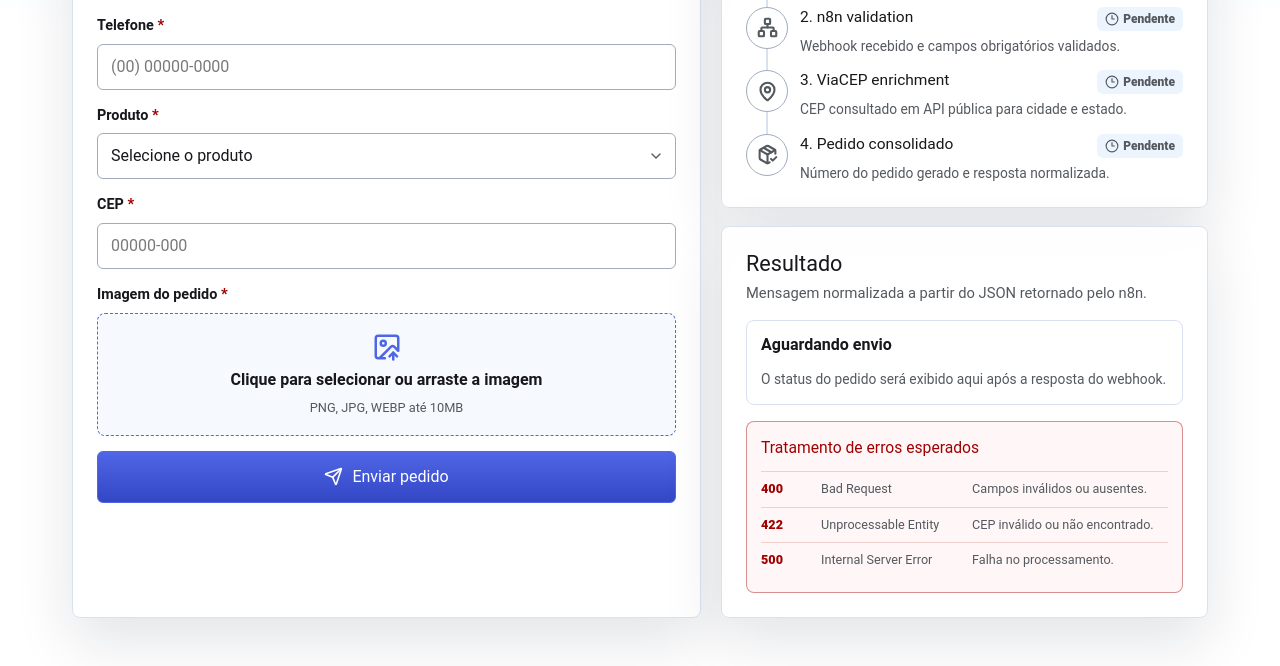
OrderCapturePage › mantém o envio habilitado para exibir validações ao tentar enviar vazio
(page scrolled)
Click the button "Enviar pedido" at coordinates (386, 477), box [97,451,676,503]
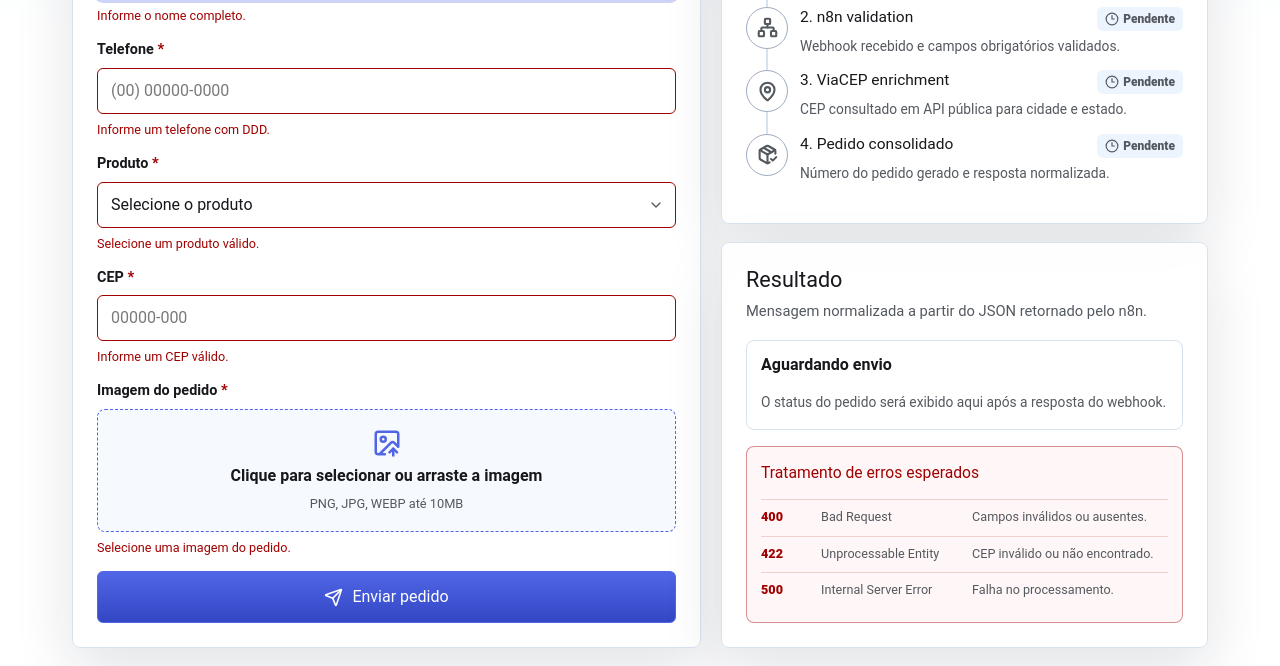
Check: the text "Informe o nome completo." is shown, box [97,8,246,23]
Check: the text "Informe um telefone com DDD." is shown, box [97,122,270,137]
Check: the text "Selecione um produto válido." is shown, box [97,236,259,250]
